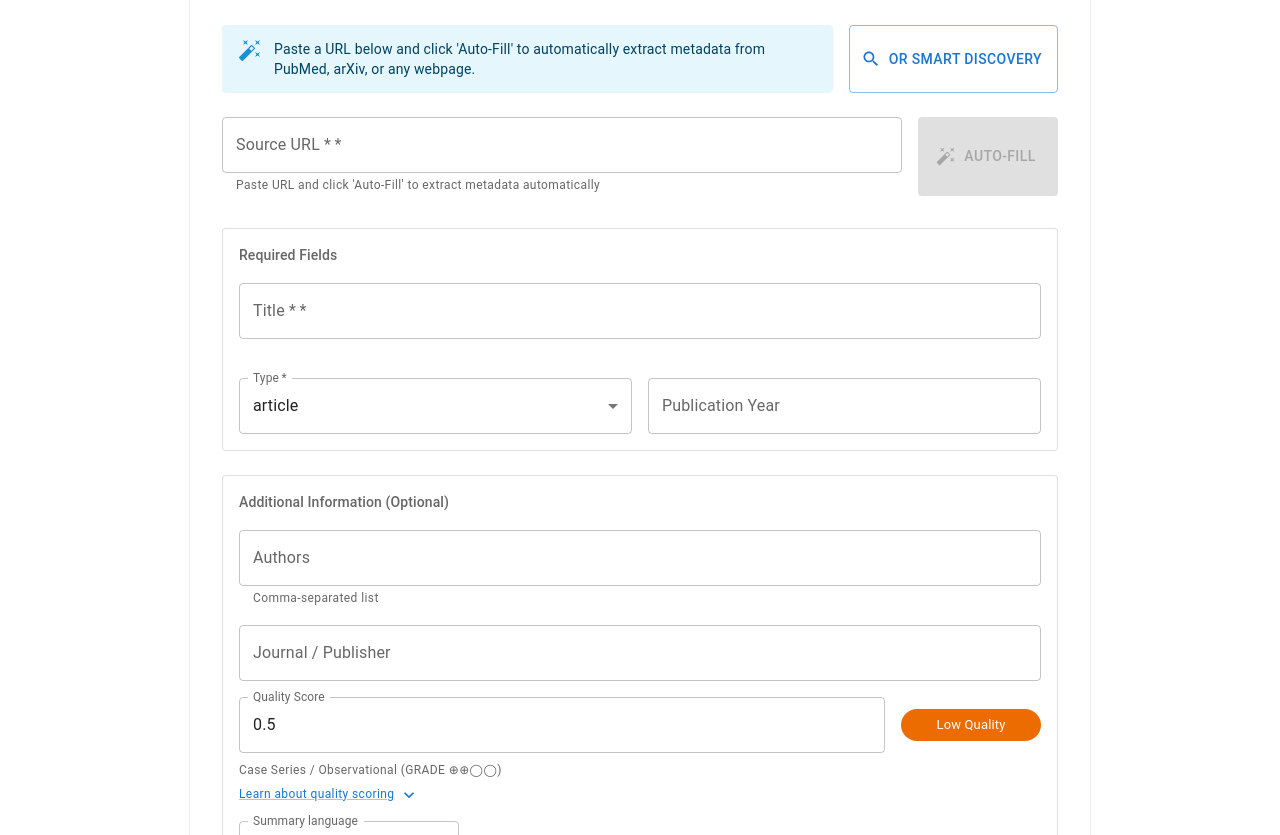
Scenario: CreateSourceView › Loading state › disables form fields when loading
The image size is (1280, 835).
Type "Test" into the field labelled "Title * *" at coordinates (640, 311), box x1=239 y1=283 x2=1041 y2=339
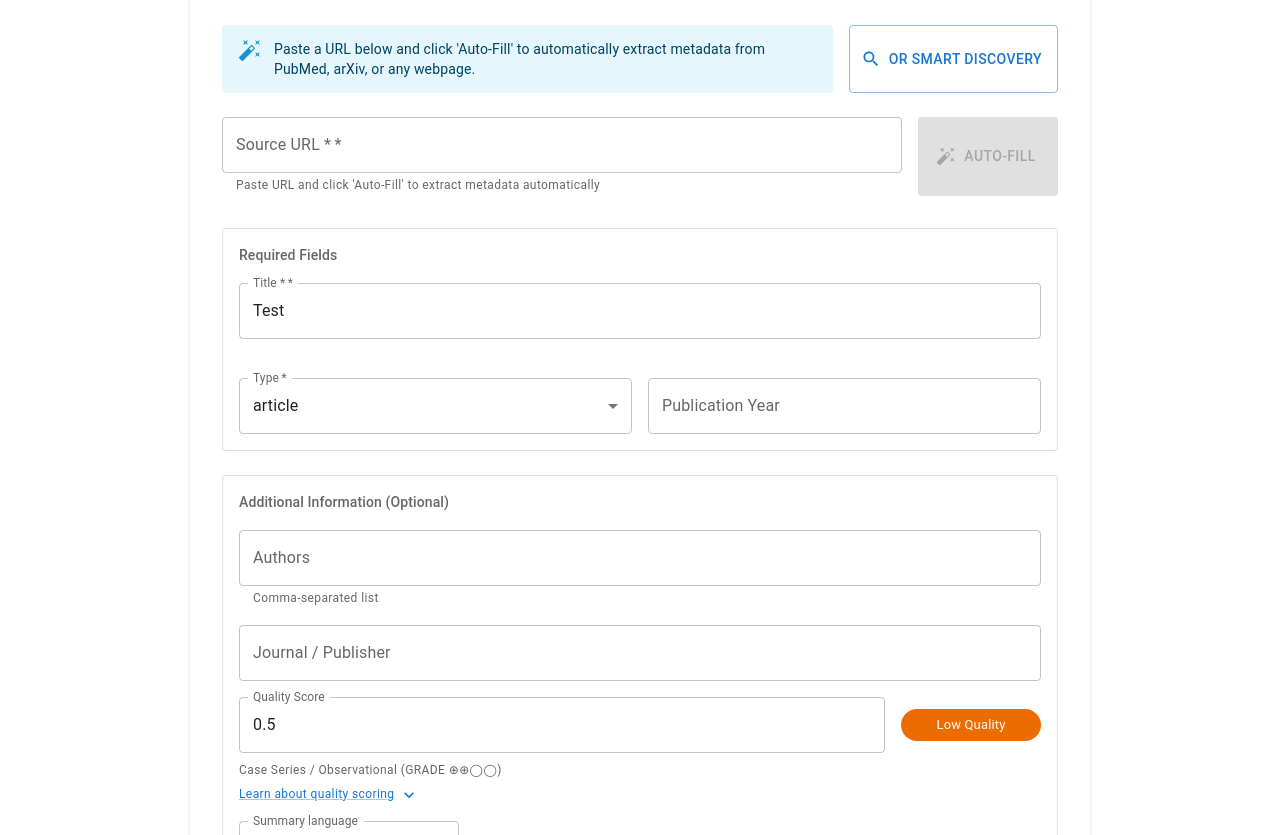
Type "https://example.com" into the field labelled "Source URL * *" at coordinates (562, 145), box x1=222 y1=117 x2=902 y2=173
(page scrolled)
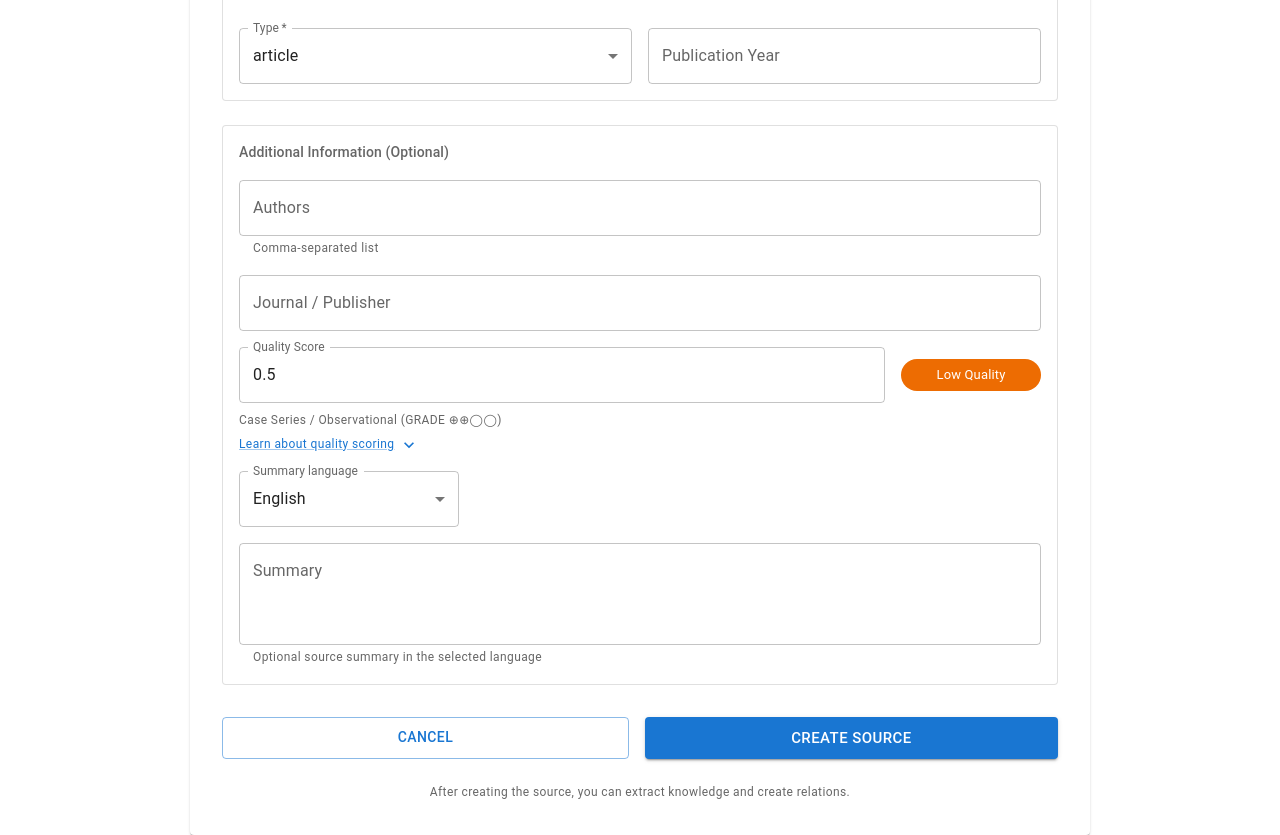
Click the button "Create Source" at coordinates (851, 738), box x1=645 y1=716 x2=1058 y2=759
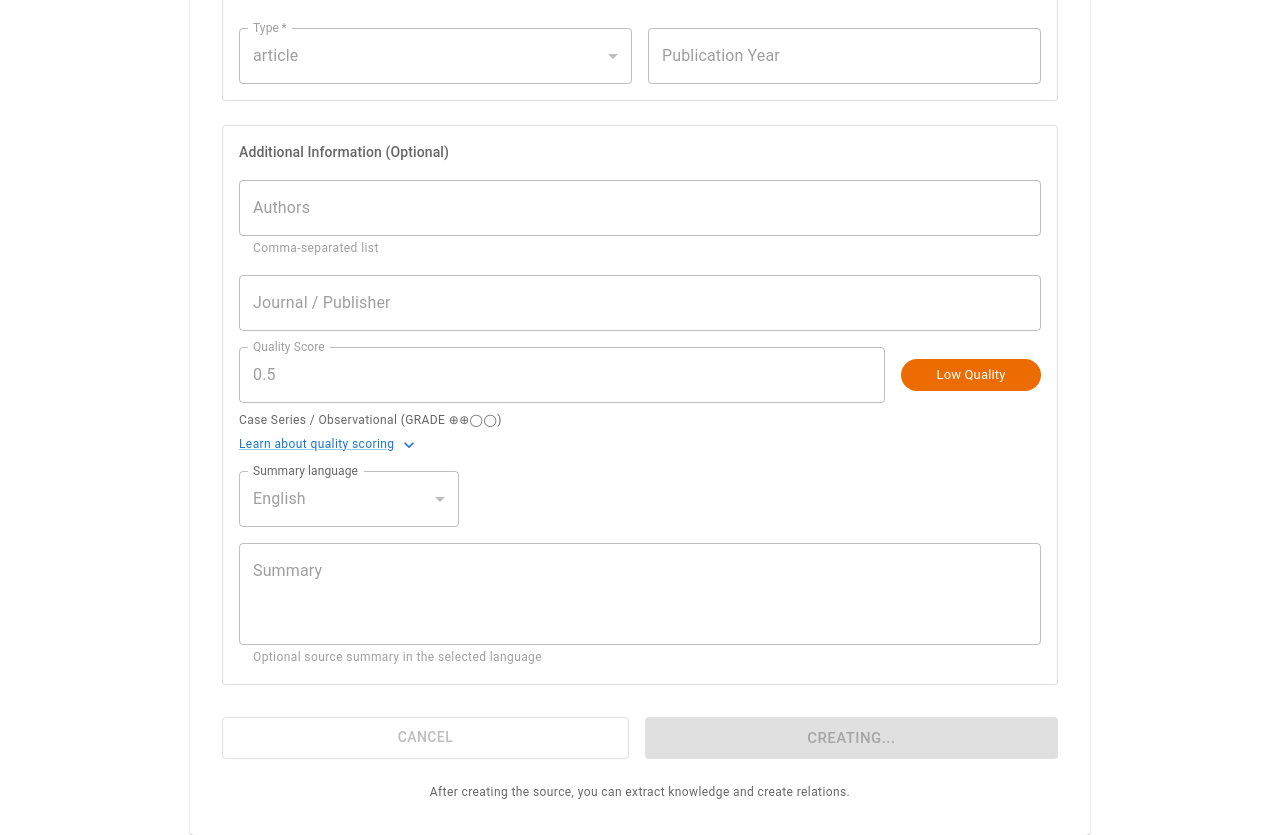
Result: the button named "create source" is disabled at x1=645 y1=716 x2=1058 y2=759
